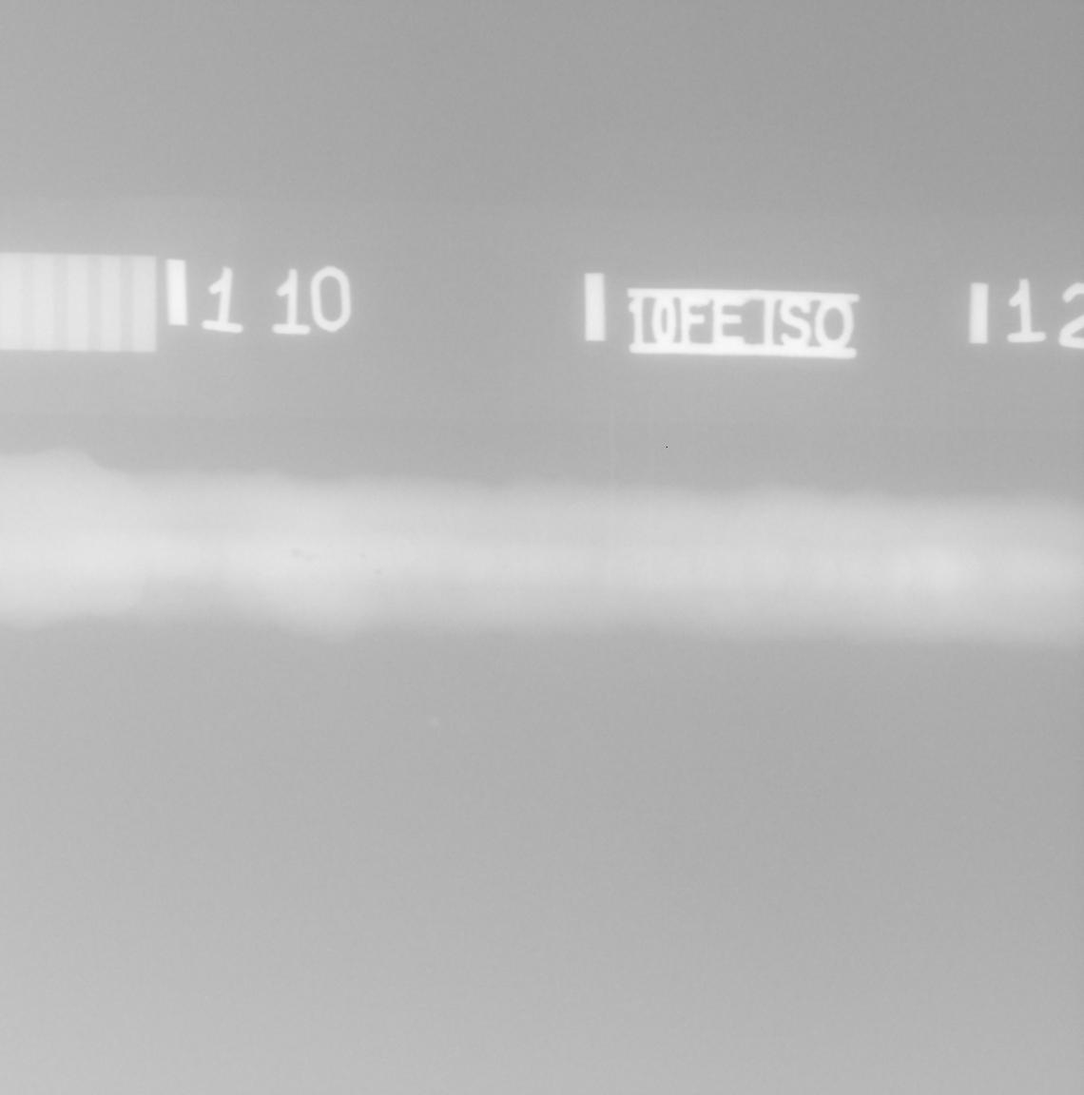Pore/Porosity: (291, 548, 303, 558), (304, 557, 313, 563), (374, 570, 383, 576), (1040, 586, 1047, 593), (326, 583, 334, 588), (360, 553, 365, 558), (503, 565, 507, 570), (691, 569, 695, 572)
